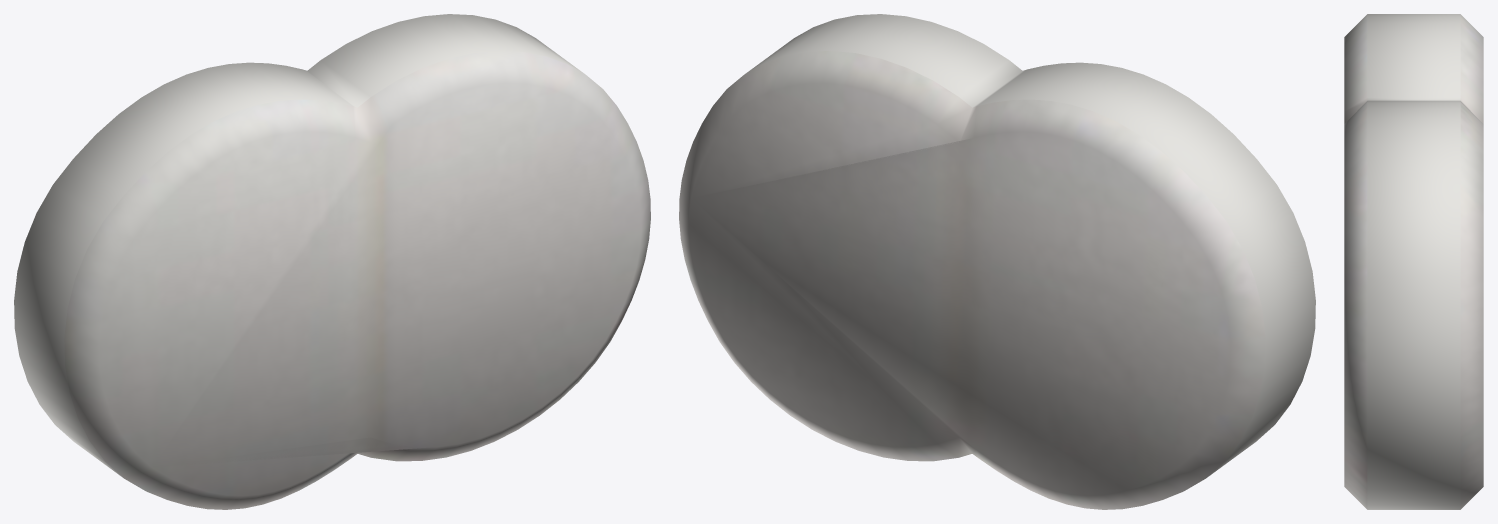
Rendered from 20140311GOPHDRGPT02346.fbx.
3 views of the same model, side by side, from view 1: azimuth 30°, elevation 25°; view 2: azimuth 150°, elevation 25°; view 3: azimuth 270°, elevation 25° (orthographic). The views are drawn at different scales.
Visible parts, largest first — view 1: 貝茲曲線.002; view 2: 貝茲曲線.002; view 3: 貝茲曲線.002.
Part boxes in pixels (x1,y1,x2,y2): 貝茲曲線.002: [14, 14, 650, 509]; 貝茲曲線.002: [679, 14, 1315, 509]; 貝茲曲線.002: [1344, 14, 1483, 509].
Size of the model in its own units: 0.6966 by 0.4551 by 0.1548.
